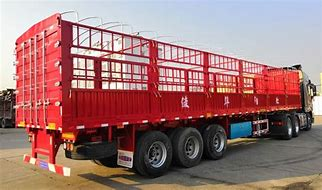bigtruck: (11, 10, 314, 173)
